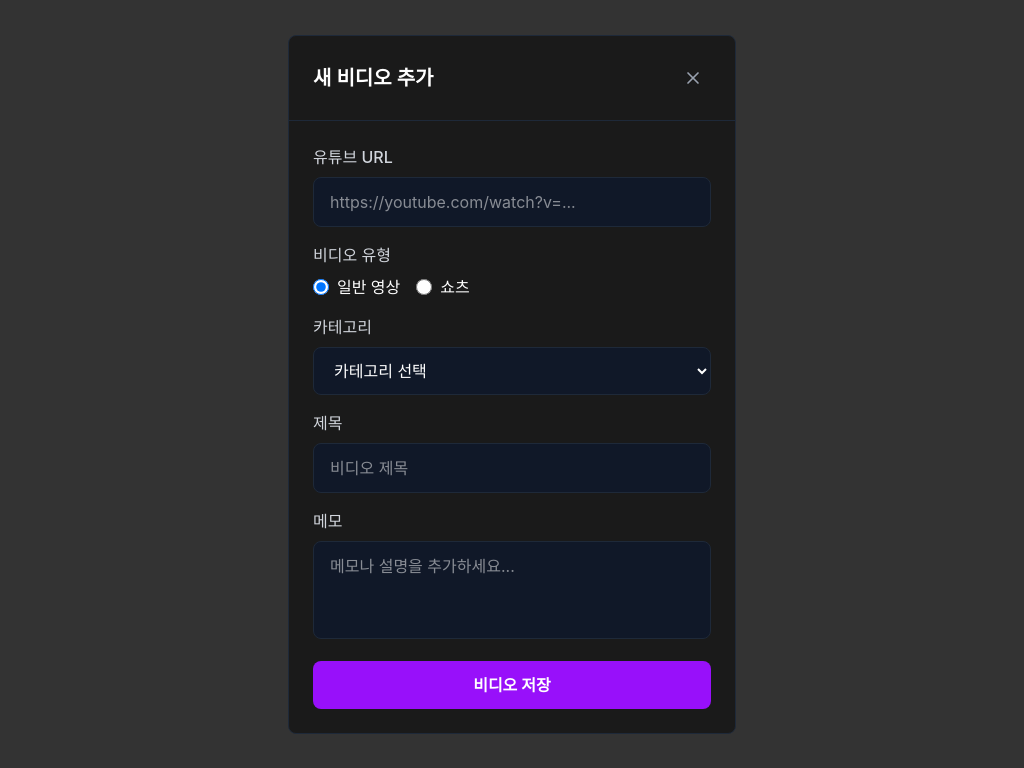
Test case: AddVideoModal › should auto-detect shorts URL
Type "https://youtube.com/shorts/abcde" into the field labelled "유튜브 URL". click: (512, 202)
box: 313,176 -> 711,226
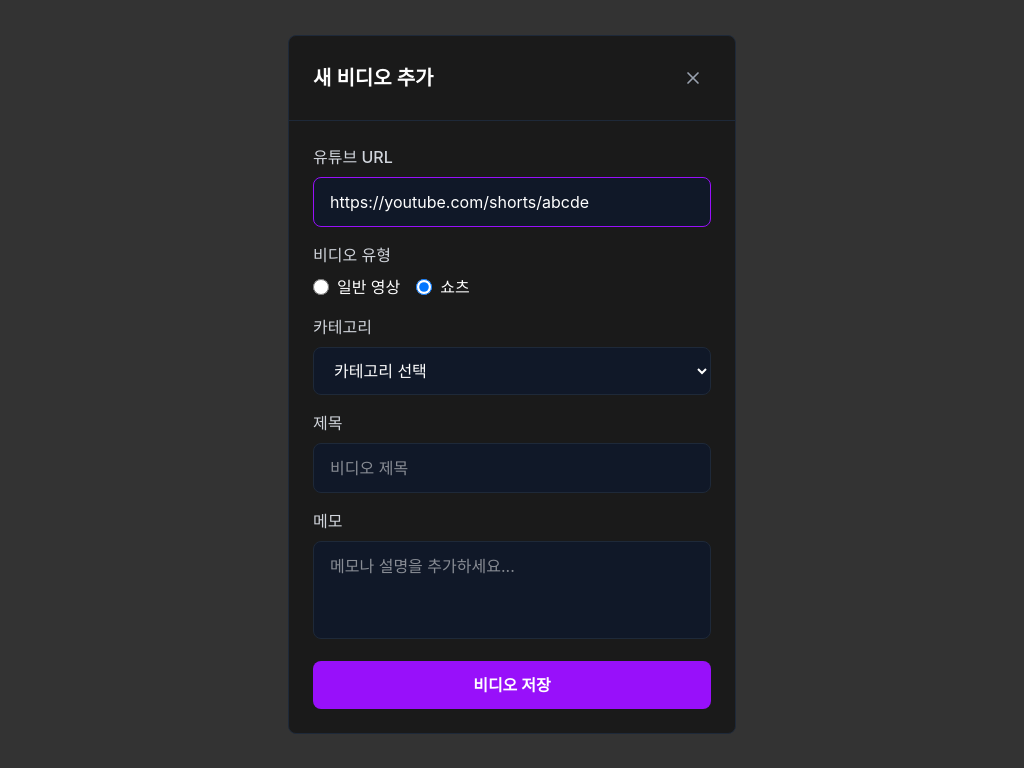
Now the radio button labelled "쇼츠" is checked, box 416,278 -> 432,294
